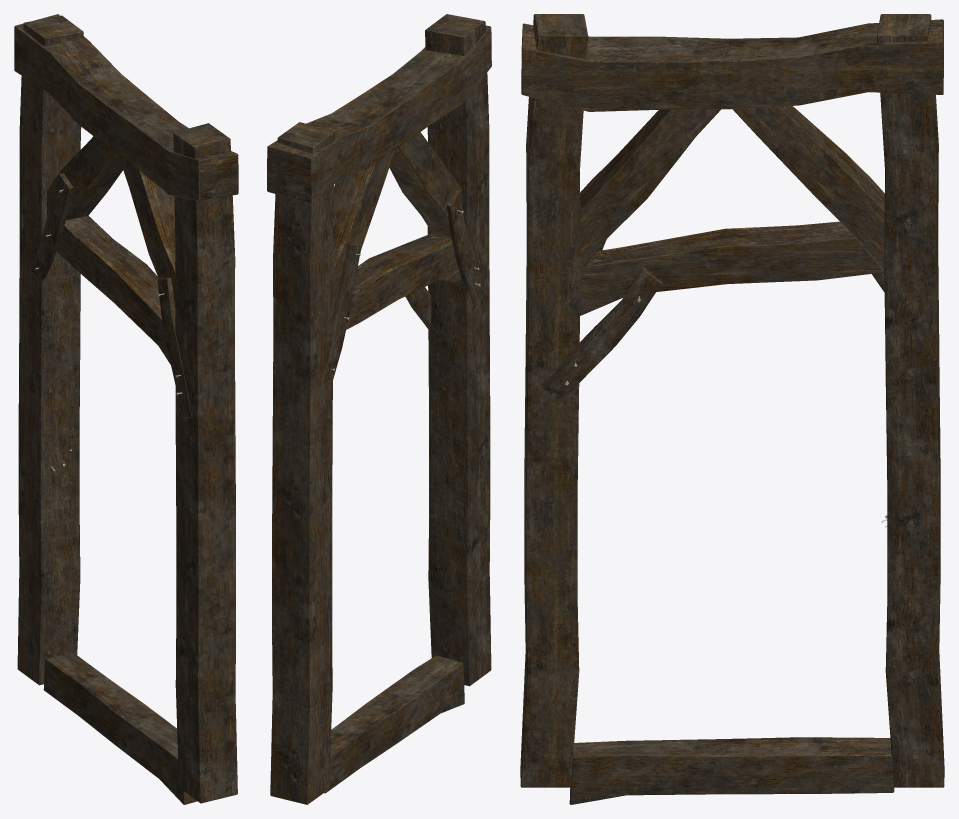
The model's file is SM_Timber_Support.fbx.
The picture shows the model from 3 angles, left to right: view 1: azimuth 30°, elevation 25°; view 2: azimuth 150°, elevation 25°; view 3: azimuth 270°, elevation 25°; orthographic projection. The views are drawn at different scales.
Parts seen in each view (by area): view 1: SM_Timber_Support; view 2: SM_Timber_Support; view 3: SM_Timber_Support.
Boxes of the visible parts, x1,y1,x2,y2 form: SM_Timber_Support: (14, 14, 238, 804); SM_Timber_Support: (267, 14, 491, 804); SM_Timber_Support: (520, 14, 944, 804).
Size of the model in its own units: 0.3381 by 4.26 by 2.12.
